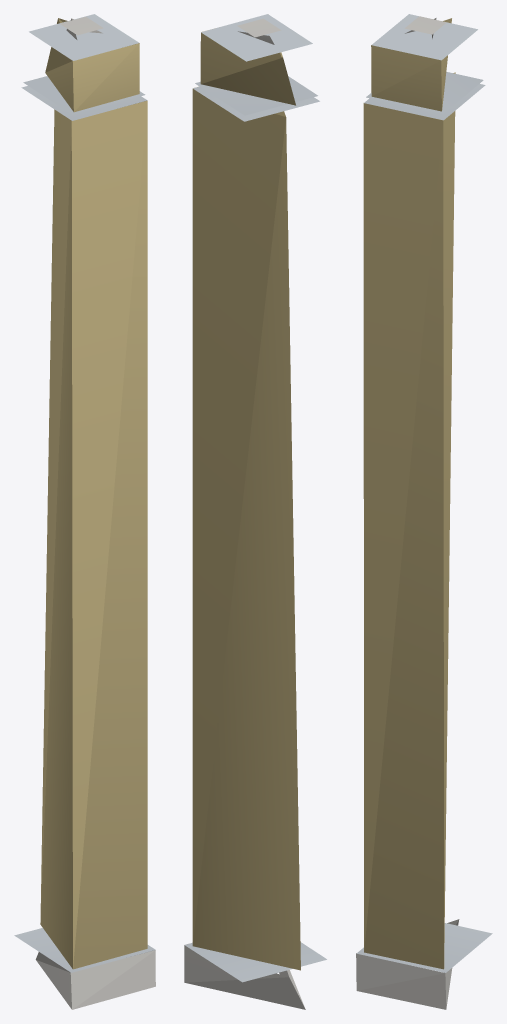
Rendered from tower_02_lod1.glb.
3 renders of one model, left to right at view 1: azimuth 30°, elevation 25°; view 2: azimuth 210°, elevation 25°; view 3: azimuth 330°, elevation 25°, orthographic.
Visible parts, largest first — view 1: tower_02_lod1; view 2: tower_02_lod1; view 3: tower_02_lod1.
Part boxes in pixels (box(x1,y1,x2,y2)): tower_02_lod1: box(14, 14, 155, 1009); tower_02_lod1: box(184, 14, 326, 1009); tower_02_lod1: box(356, 14, 492, 1009).
Size of the model in its own units: 36.31 by 360 by 41.99.
